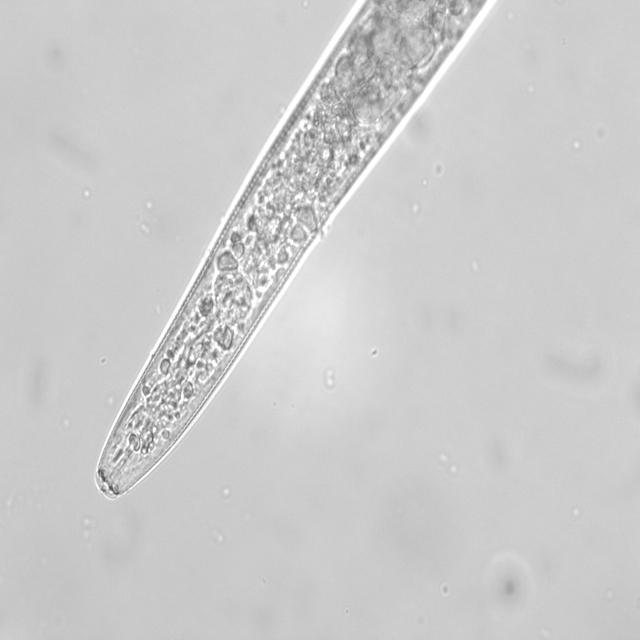Pratylenchus: (81, 0, 505, 514)
